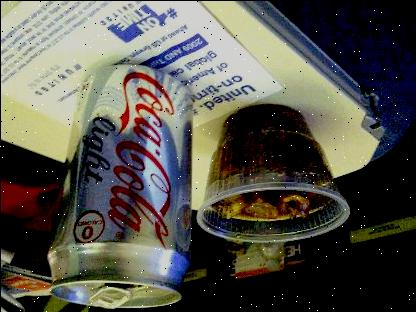Can: (44, 61, 190, 310)
